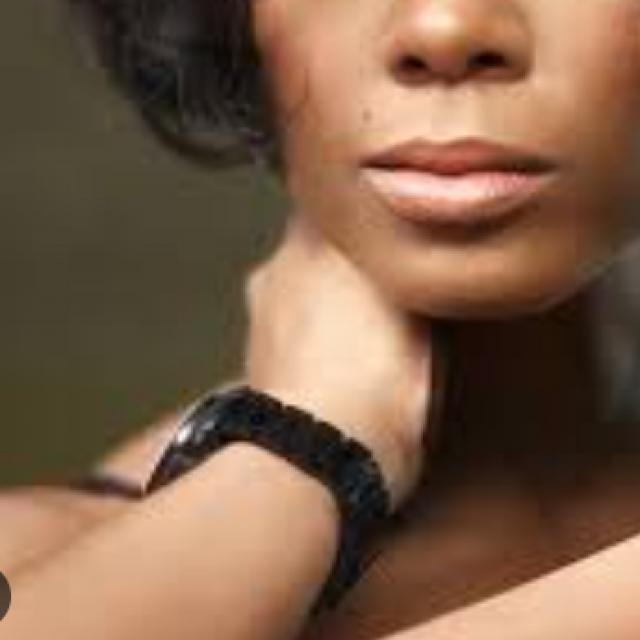Watch: (146, 381, 380, 515)
